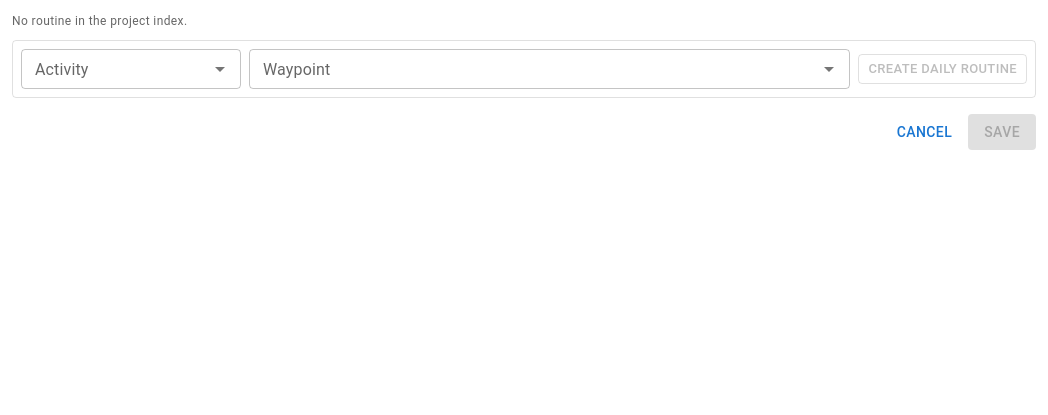
Test case: the new routine's waypoint opens on focus alone, capped
Focus the dropdown labelled "Waypoint" at (533, 69), box [255, 55, 811, 83]
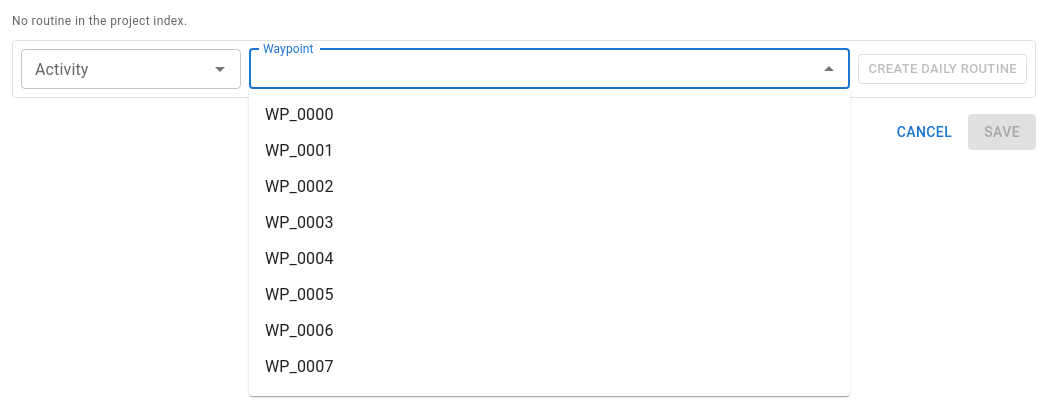
Type "WP_2999" into the dropdown labelled "Waypoint" at (533, 69), box [255, 55, 811, 83]
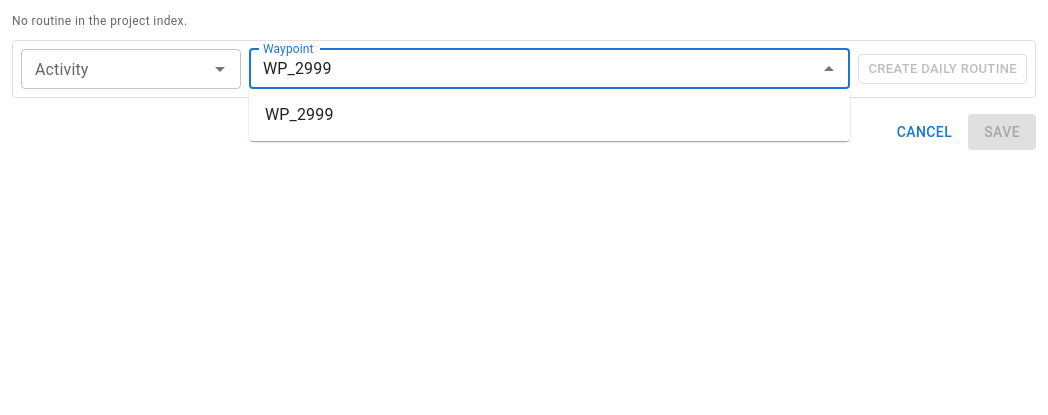
Check: the options read "WP_2999", in this order, box [265, 105, 334, 124]
